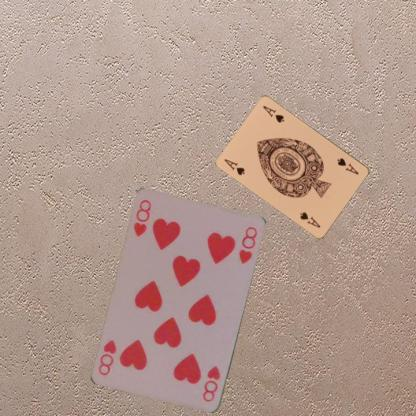8h: (131, 197, 153, 239), (200, 364, 222, 404)
As: (334, 155, 360, 176), (222, 156, 246, 176)
